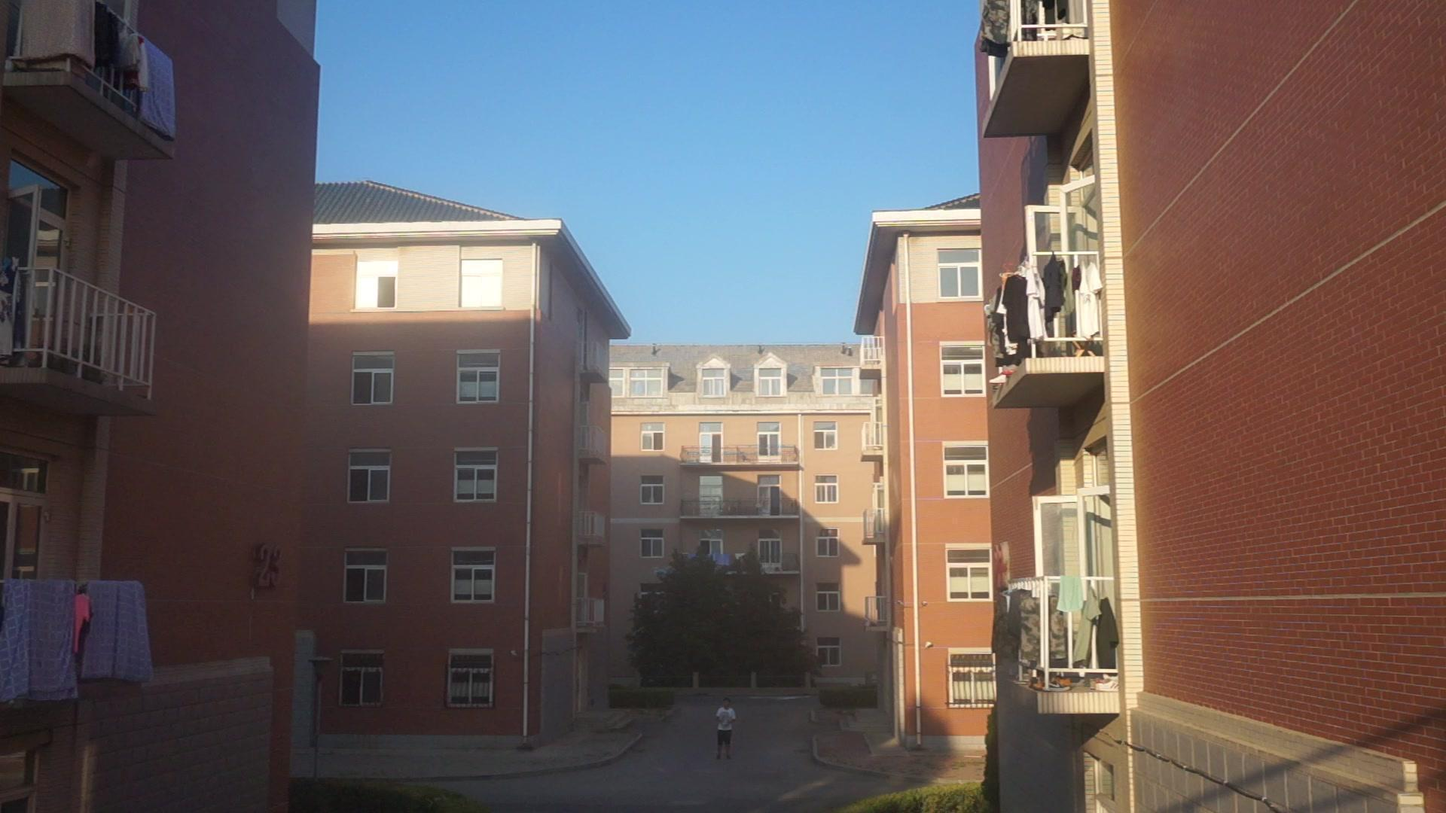UAV: (648, 565, 677, 580)
